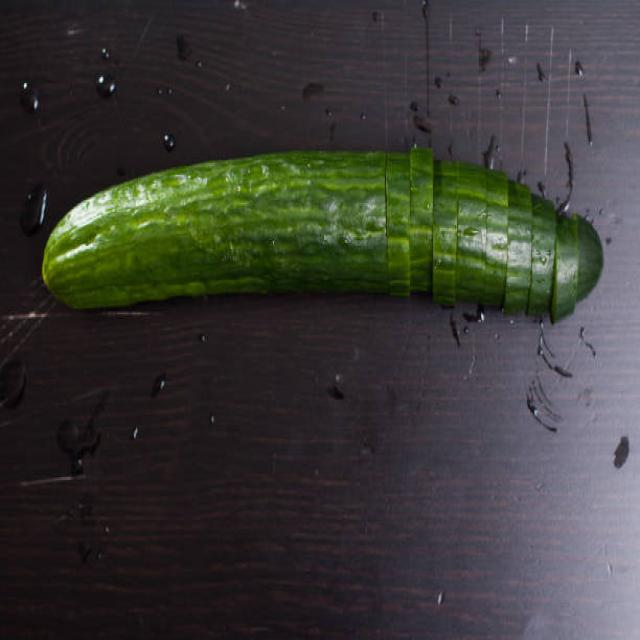cucumber: (40, 148, 605, 322)
